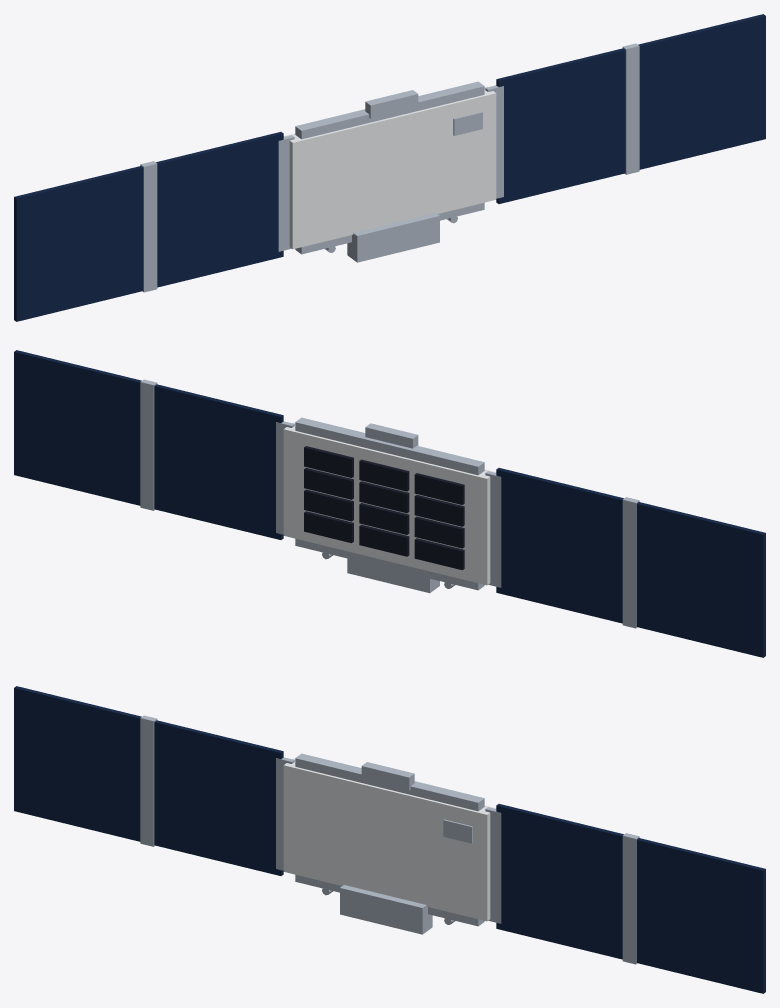
Rendered from starlink-gen3.glb.
3 views of the same model, one above another, from view 1: azimuth 30°, elevation 25°; view 2: azimuth 150°, elevation 25°; view 3: azimuth 330°, elevation 25° (orthographic).
Visible parts, largest first — view 1: wing-port-panel, wing-starboard-panel, bus, antenna-bay, bus-rail-top, wing-port-frame, wing-starboard-frame, wing-port-hinge, laser-terminal, wing-starboard-hinge, bus-rail-bottom, avionics; view 2: wing-port-panel, wing-starboard-panel, bus, bus-rail-top, wing-port-frame, wing-starboard-frame, bus-rail-bottom, wing-port-hinge, antenna-bay, array-3-0, array-3-1, array-0-0 (+11 smaller); view 3: wing-starboard-panel, wing-port-panel, bus, antenna-bay, bus-rail-top, wing-port-frame, wing-starboard-frame, wing-starboard-hinge, laser-terminal, wing-port-hinge, bus-rail-bottom, avionics.
Boxes of the visible parts, box(x1,y1,x2,y2) form: wing-port-panel: box(14, 132, 283, 321); wing-starboard-panel: box(496, 14, 765, 203); bus: box(283, 86, 496, 249); antenna-bay: box(347, 213, 439, 262); bus-rail-top: box(295, 81, 484, 139); wing-port-frame: box(140, 161, 157, 292); wing-starboard-frame: box(622, 43, 639, 174); wing-port-hinge: box(278, 135, 294, 251); laser-terminal: box(365, 90, 418, 118); wing-starboard-hinge: box(485, 85, 503, 198); bus-rail-bottom: box(295, 202, 484, 254); avionics: box(453, 112, 482, 135); wing-port-panel: box(496, 468, 765, 657); wing-starboard-panel: box(14, 350, 283, 539); bus: box(283, 422, 496, 585); bus-rail-top: box(295, 417, 484, 475); wing-port-frame: box(622, 497, 639, 628); wing-starboard-frame: box(140, 379, 157, 510); bus-rail-bottom: box(295, 538, 484, 590); wing-port-hinge: box(485, 471, 501, 587); antenna-bay: box(347, 558, 439, 593); array-3-0: box(414, 473, 464, 504); array-3-1: box(359, 459, 409, 491); array-0-0: box(414, 538, 464, 570); wing-starboard-panel: box(496, 804, 765, 993); wing-port-panel: box(14, 686, 283, 875); bus: box(283, 758, 496, 921); antenna-bay: box(340, 885, 432, 934); bus-rail-top: box(295, 753, 484, 811); wing-port-frame: box(140, 715, 157, 846); wing-starboard-frame: box(622, 833, 639, 964); wing-starboard-hinge: box(485, 807, 501, 923); laser-terminal: box(361, 762, 414, 790); wing-port-hinge: box(276, 757, 294, 870); bus-rail-bottom: box(295, 874, 484, 926); avionics: box(443, 819, 472, 843).
Size of the model in its own units: 23.56 by 4.5 by 0.845.
